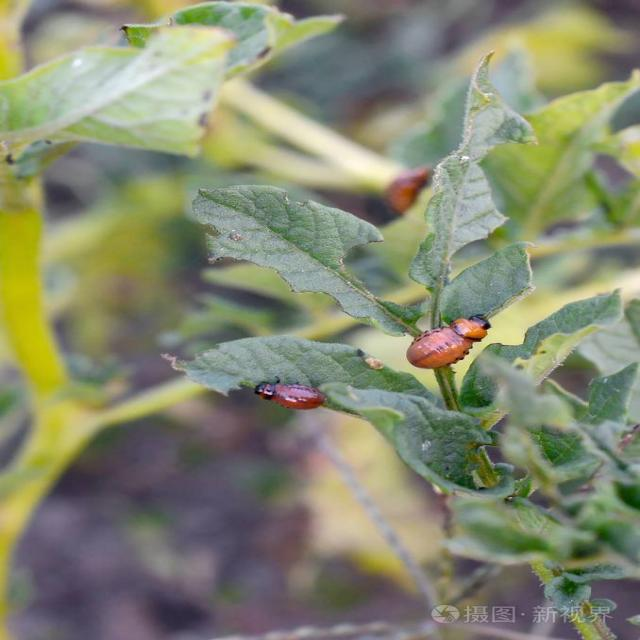ShuCaiHuaBanChong-Larva-: (394, 301, 494, 370), (238, 363, 340, 430)
